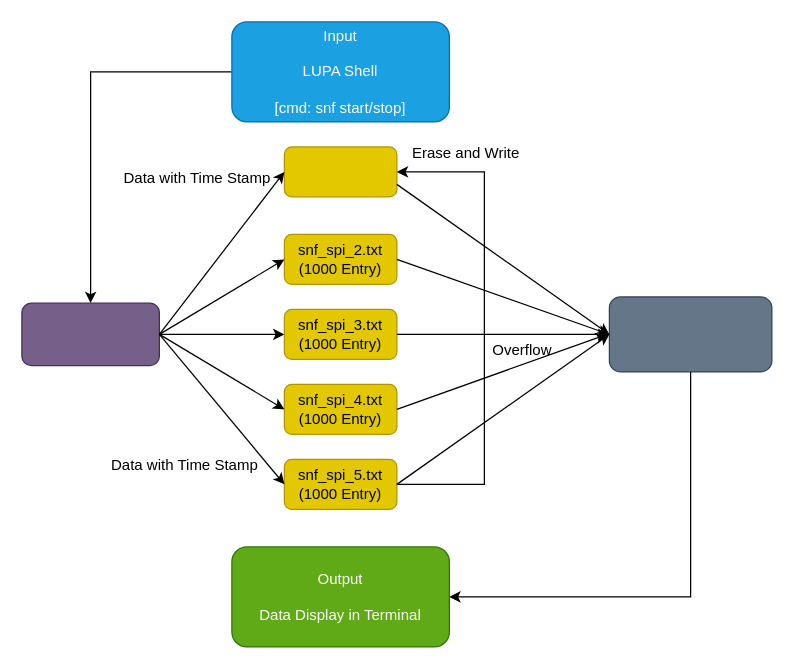
Image size: 794x669. Some labels were removed from this diagram. Each missing label, with the box of its shape:
snf_spi_1.txt (1000 Entry): (283, 146, 397, 197)
Sniffing App: (608, 296, 772, 372)
Sniffing Driver Sample Data: (21, 302, 159, 366)
